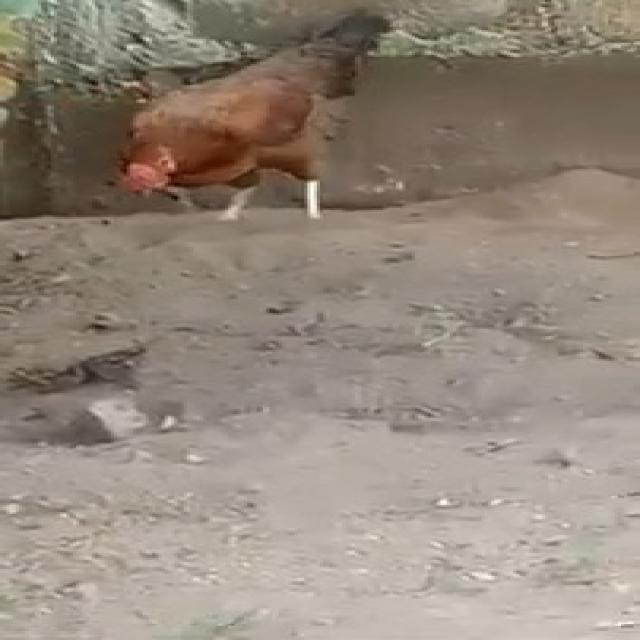stand bath: (98, 0, 409, 224)
